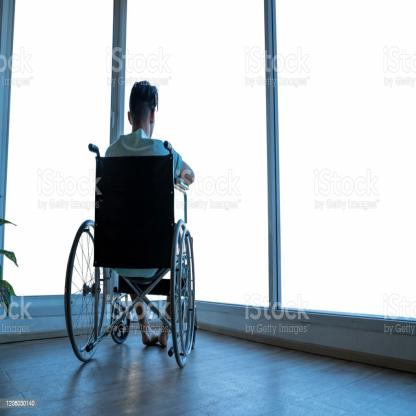wheelchair: (62, 80, 201, 373)
